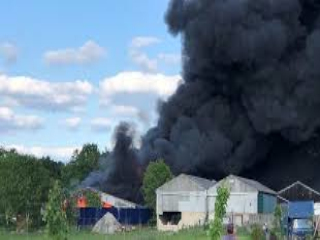fire: (66, 194, 112, 211)
smoke: (135, 1, 307, 202), (86, 126, 147, 192)
